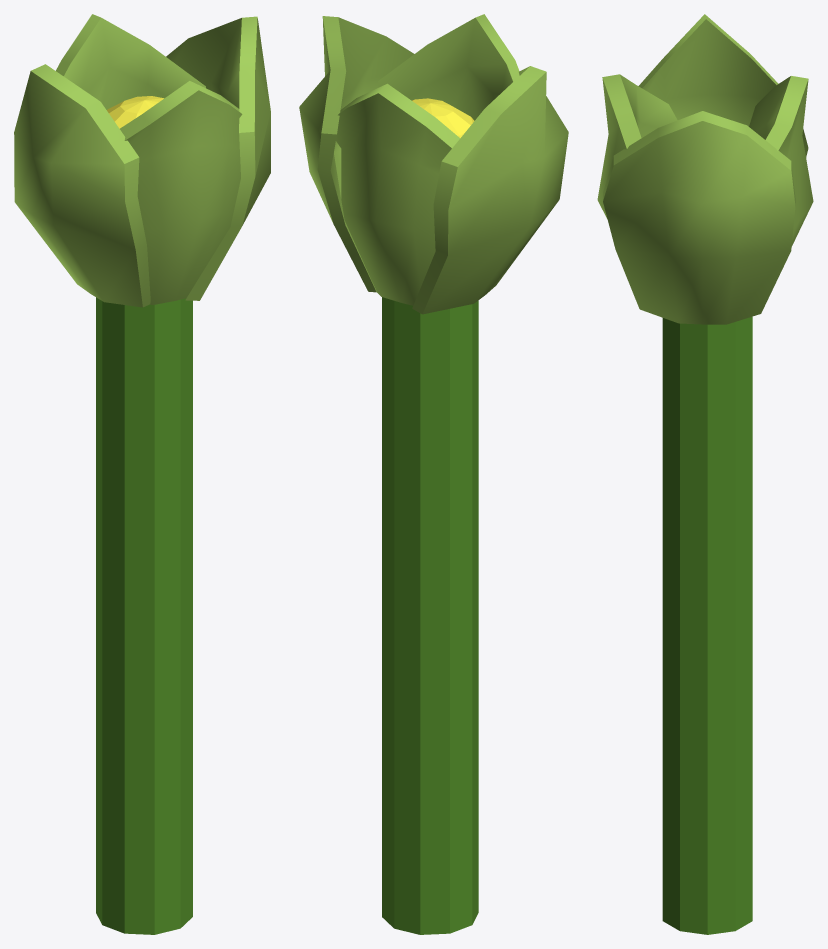
Rendered from Flower_Stage2.obj.
3 views of the same model, side by side, from view 1: azimuth 30°, elevation 25°; view 2: azimuth 150°, elevation 25°; view 3: azimuth 270°, elevation 25° (orthographic). The views are drawn at different scales.
Parts seen in each view (by area): view 1: pCylinder2; view 2: pCylinder2; view 3: pCylinder2.
Boxes of the visible parts, x1,y1,x2,y2 form: pCylinder2: [14, 14, 270, 934]; pCylinder2: [299, 14, 568, 934]; pCylinder2: [597, 14, 813, 934].
Size of the model in its own units: 1.44 by 5.27 by 1.22.
2 materials, 2 textured.
